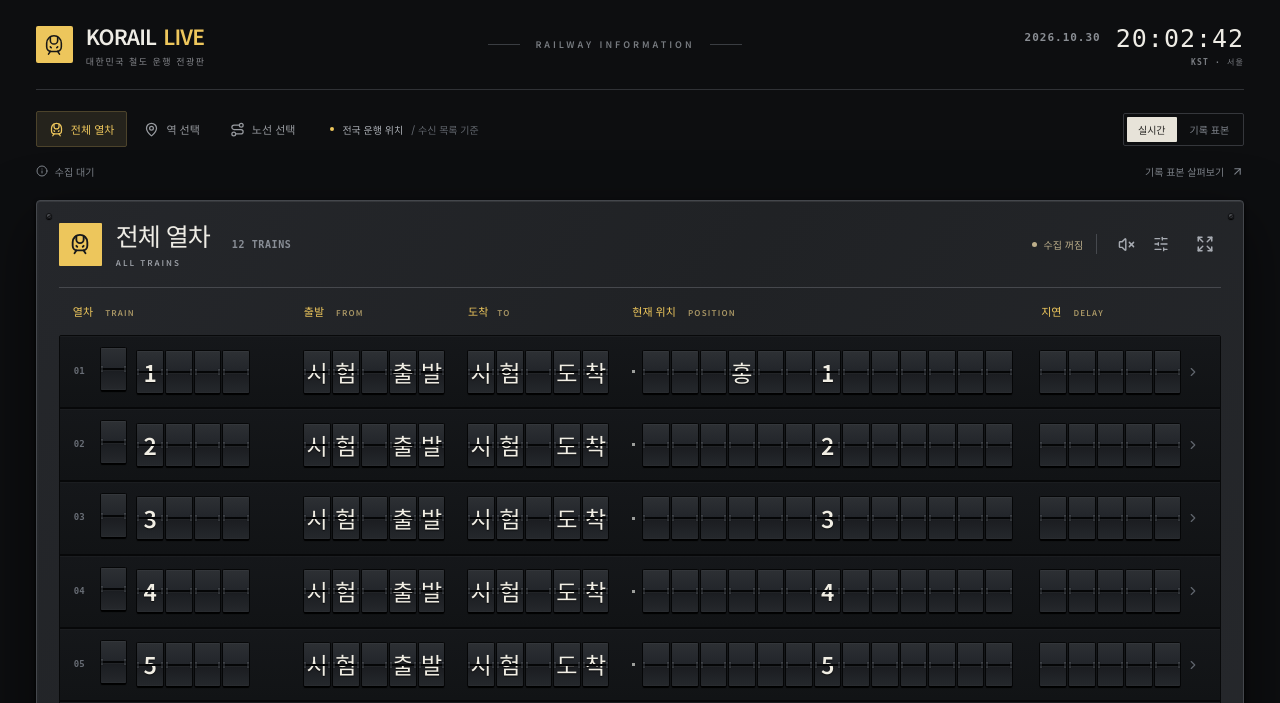
Test case: board interactions › uses station membership and displays unavailable geometry
Expected: the row named "KTX 1," is shown, [60, 336, 1220, 409]
Click the tab "역 선택".
click(172, 129)  # box [131, 111, 213, 147]
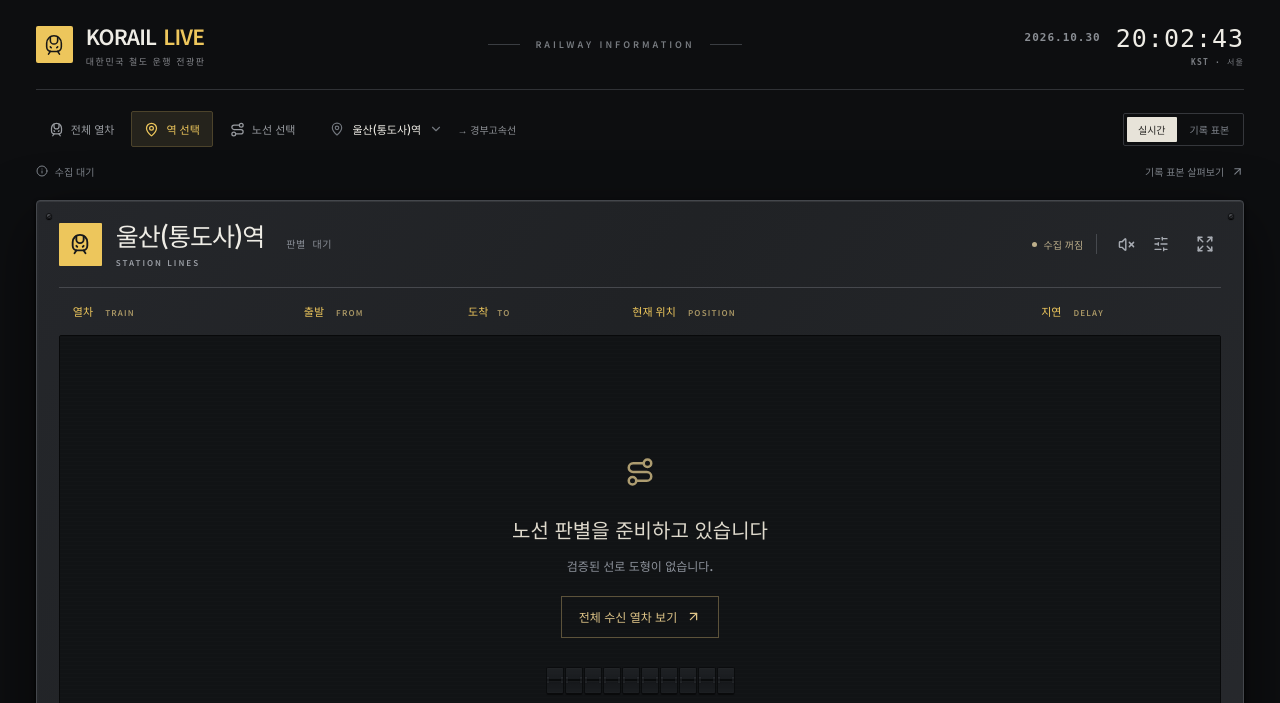
Now the heading "노선 판별을 준비하고 있습니다" is shown, box [512, 515, 768, 545]
